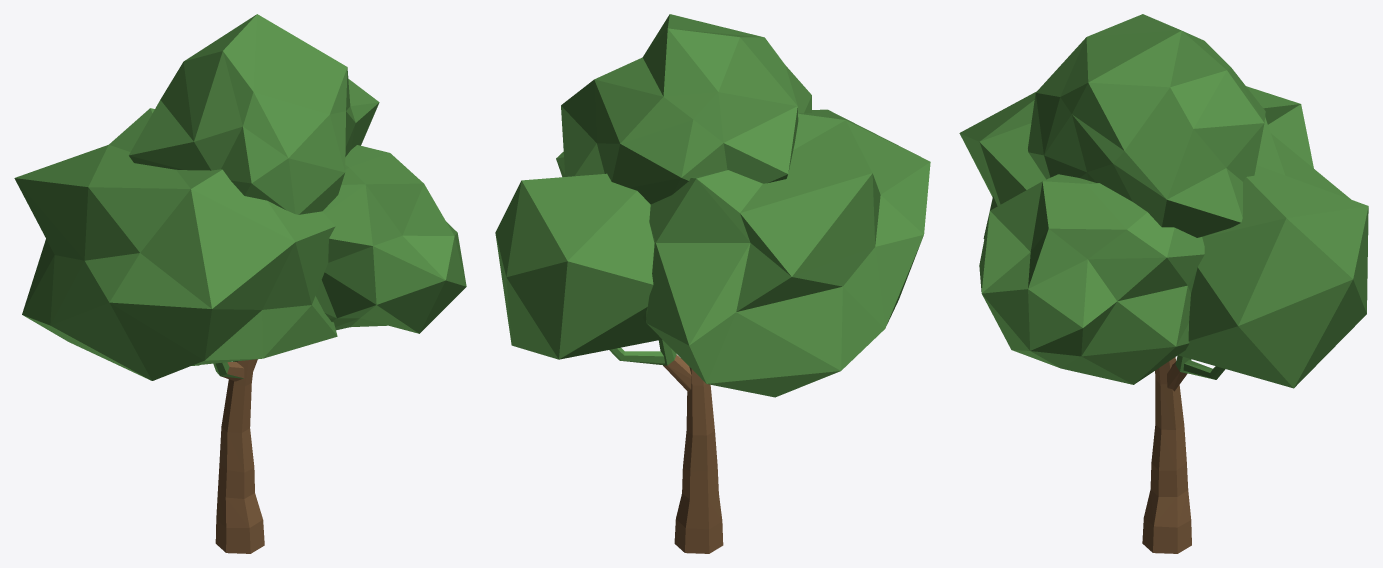
Rendered from tree3d-066.glb.
3 renders of one model, left to right at view 1: azimuth 30°, elevation 25°; view 2: azimuth 150°, elevation 25°; view 3: azimuth 270°, elevation 25°, orthographic.
Visible parts, largest first — view 1: tree3d-066; view 2: tree3d-066; view 3: tree3d-066.
Boxes of the visible parts, left/top/right/bottom form: tree3d-066: left=14, top=14, right=466, bottom=553; tree3d-066: left=495, top=14, right=930, bottom=553; tree3d-066: left=959, top=14, right=1368, bottom=553.
Bounding box in the file's own units: 0.7347 × 1 × 0.7053.
